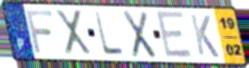E: (154, 9, 195, 61)
F: (24, 9, 55, 55)
K: (188, 13, 221, 60)
L: (92, 10, 126, 58)
X: (53, 9, 94, 57), (121, 9, 158, 60)
